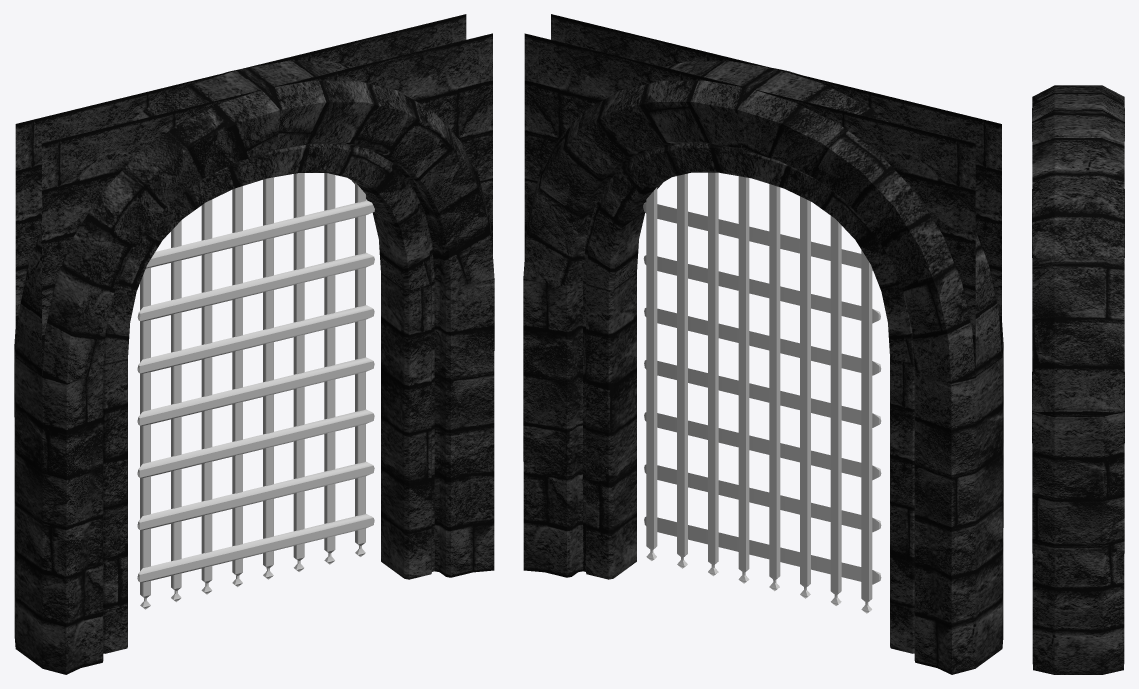
The model's file is Castle Door (Iron Bars).FBX.
The picture shows the model from 3 angles, left to right: view 1: azimuth 30°, elevation 25°; view 2: azimuth 150°, elevation 25°; view 3: azimuth 270°, elevation 25°; orthographic projection. The views are drawn at different scales.
Parts seen in each view (by area): view 1: Door Wall, Plane001, Wall Plane 2, Wall Plane 1; view 2: Door Wall, Plane001, Wall Plane 1, Wall Plane 2; view 3: Door Wall.
Boxes of the visible parts, bbox=[...] form: Door Wall: bbox=[14, 61, 494, 674]; Plane001: bbox=[137, 173, 374, 609]; Wall Plane 2: bbox=[42, 33, 492, 375]; Wall Plane 1: bbox=[15, 14, 466, 354]; Door Wall: bbox=[523, 61, 1003, 674]; Plane001: bbox=[643, 172, 881, 613]; Wall Plane 1: bbox=[524, 33, 975, 375]; Wall Plane 2: bbox=[551, 14, 1001, 354]; Door Wall: bbox=[1032, 85, 1124, 674].
Size of the model in its own units: 64.21 by 71.48 by 12.91.
